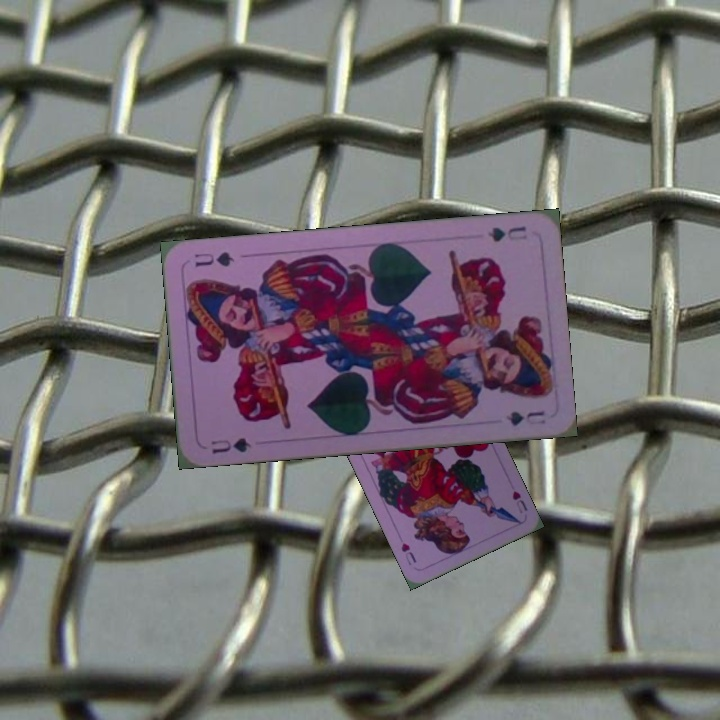GU: (207, 433, 254, 456), (483, 222, 530, 245)
HU: (508, 486, 530, 516)
